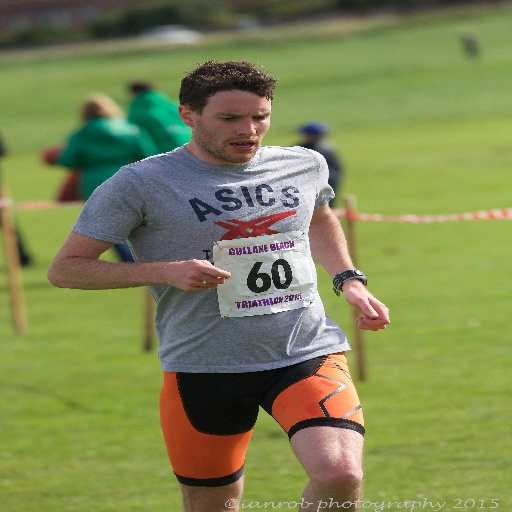hand: (154, 257, 234, 291), (339, 286, 392, 333)
